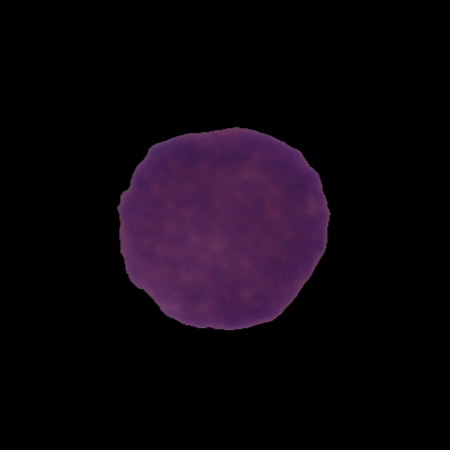HEM: (113, 124, 333, 334)
